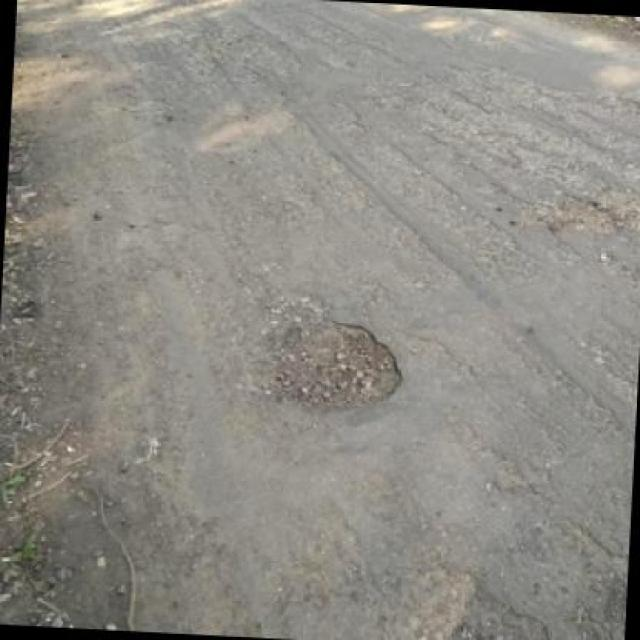pothole1: (254, 310, 412, 416), (554, 190, 620, 233)
